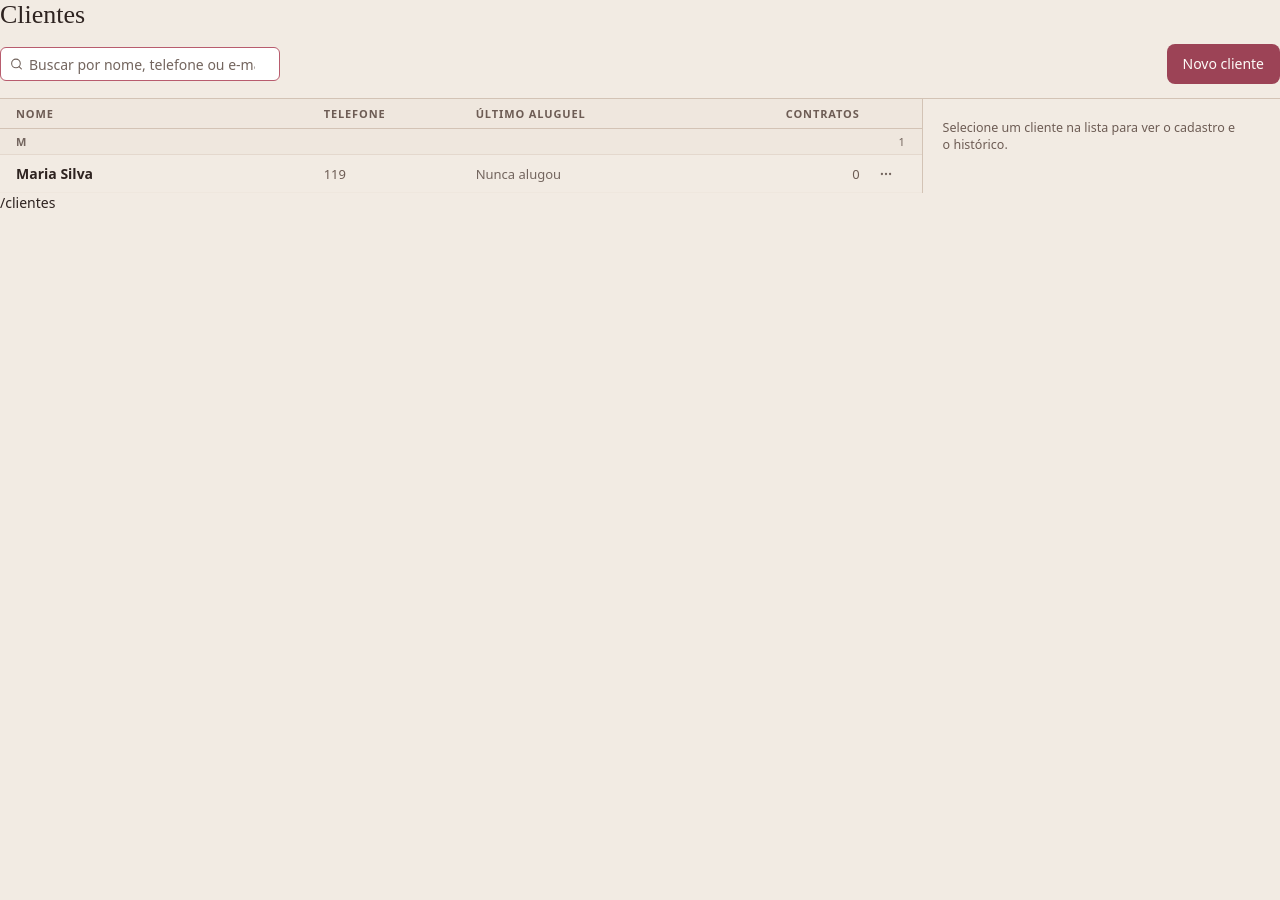
Test: ClientsPage › opens the drawer pre-filled from the panel Editar button
Click the text "Maria Silva". click: (55, 174)
box: [16,164,93,184]
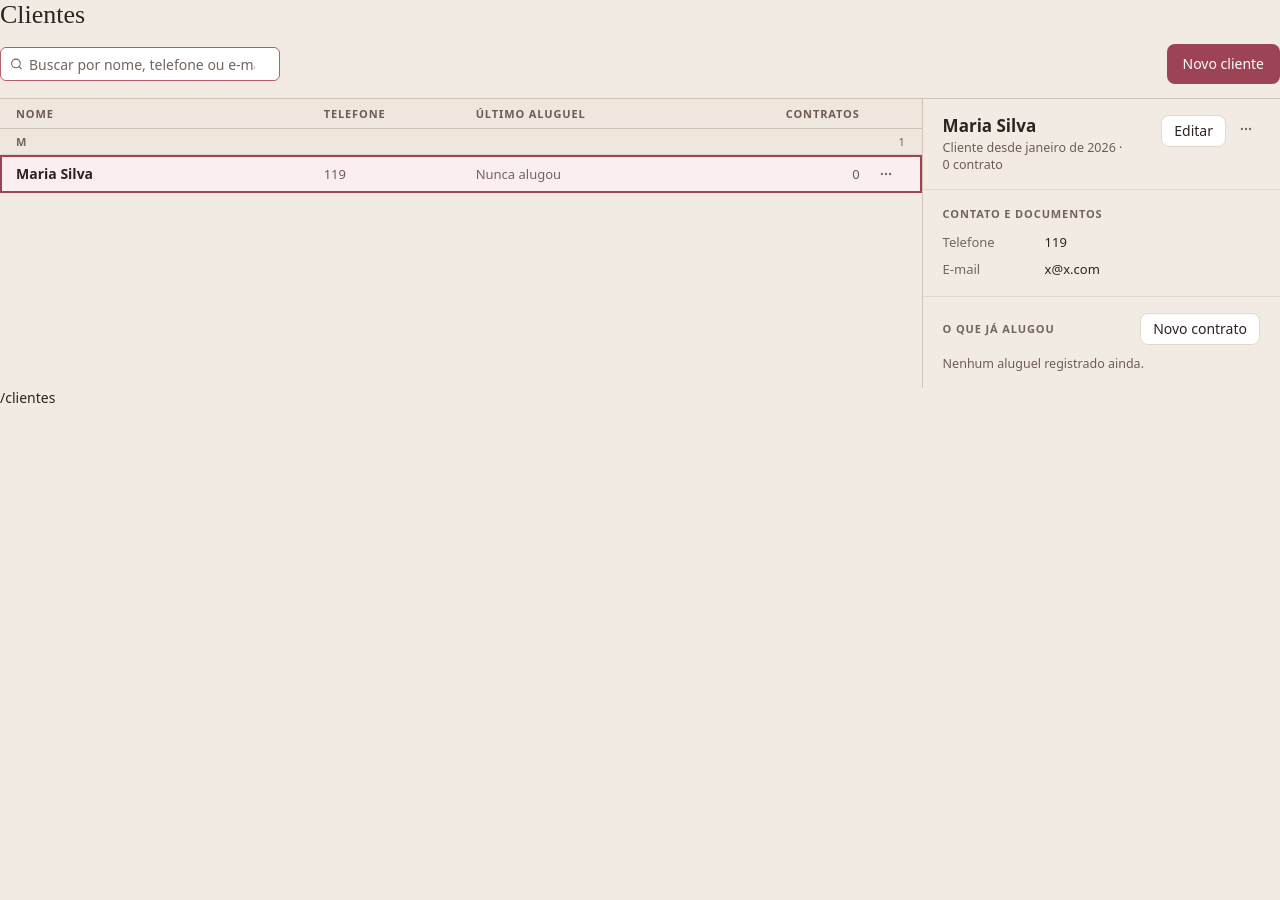
Click the button "Editar". click: (1194, 131)
box: [1161,115,1226,147]
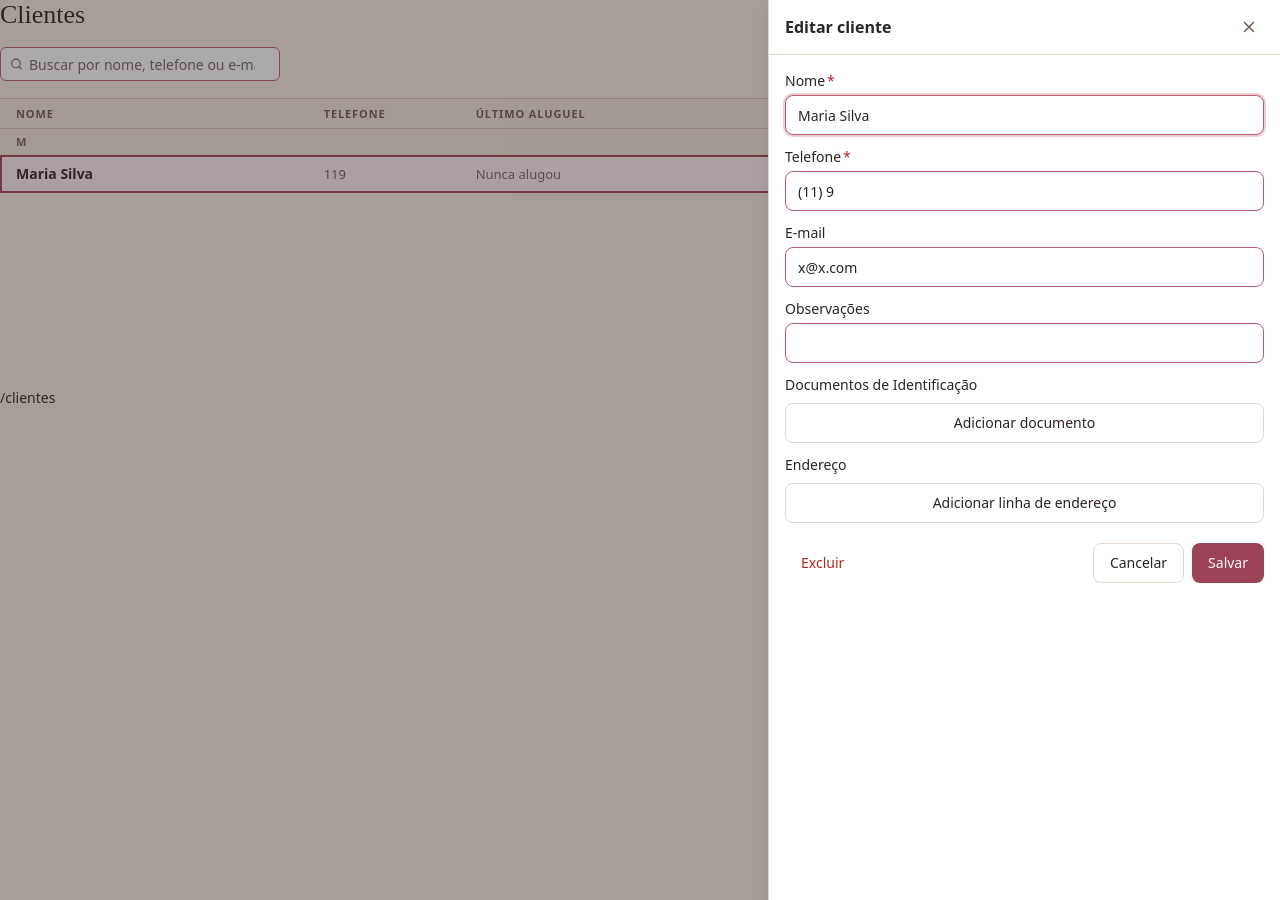
Check: the field labelled "Nome" holds "Maria Silva", box [785,95,1264,135]
